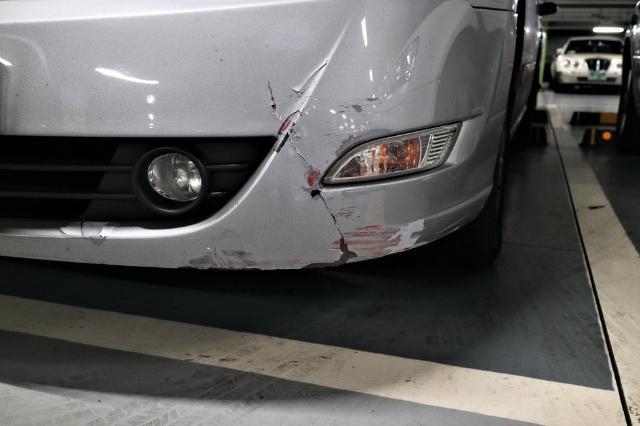Bumper: (248, 58, 464, 282)
